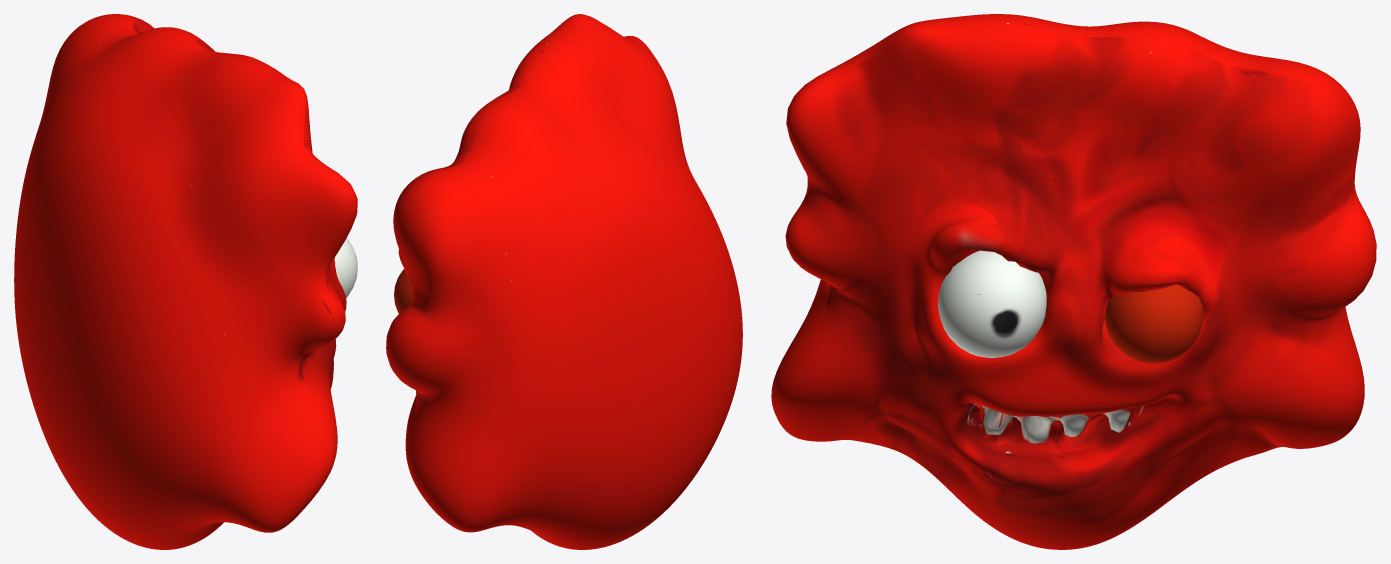
Rendered from ARColourgameRED.fbx.
The picture shows the model from 3 angles, left to right: view 1: azimuth 30°, elevation 25°; view 2: azimuth 150°, elevation 25°; view 3: azimuth 270°, elevation 25°; orthographic projection. The views are drawn at different scales.
Parts seen in each view (by area): view 1: Sphere.004; view 2: Sphere.004; view 3: Sphere.004.
Part boxes in pixels (x1,y1,x2,y2): Sphere.004: (14, 14, 357, 549); Sphere.004: (386, 14, 742, 549); Sphere.004: (771, 14, 1376, 549).
Bounding box in the file's own units: 139 × 242 × 239.
